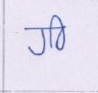i_matra: (51, 14, 64, 49)
